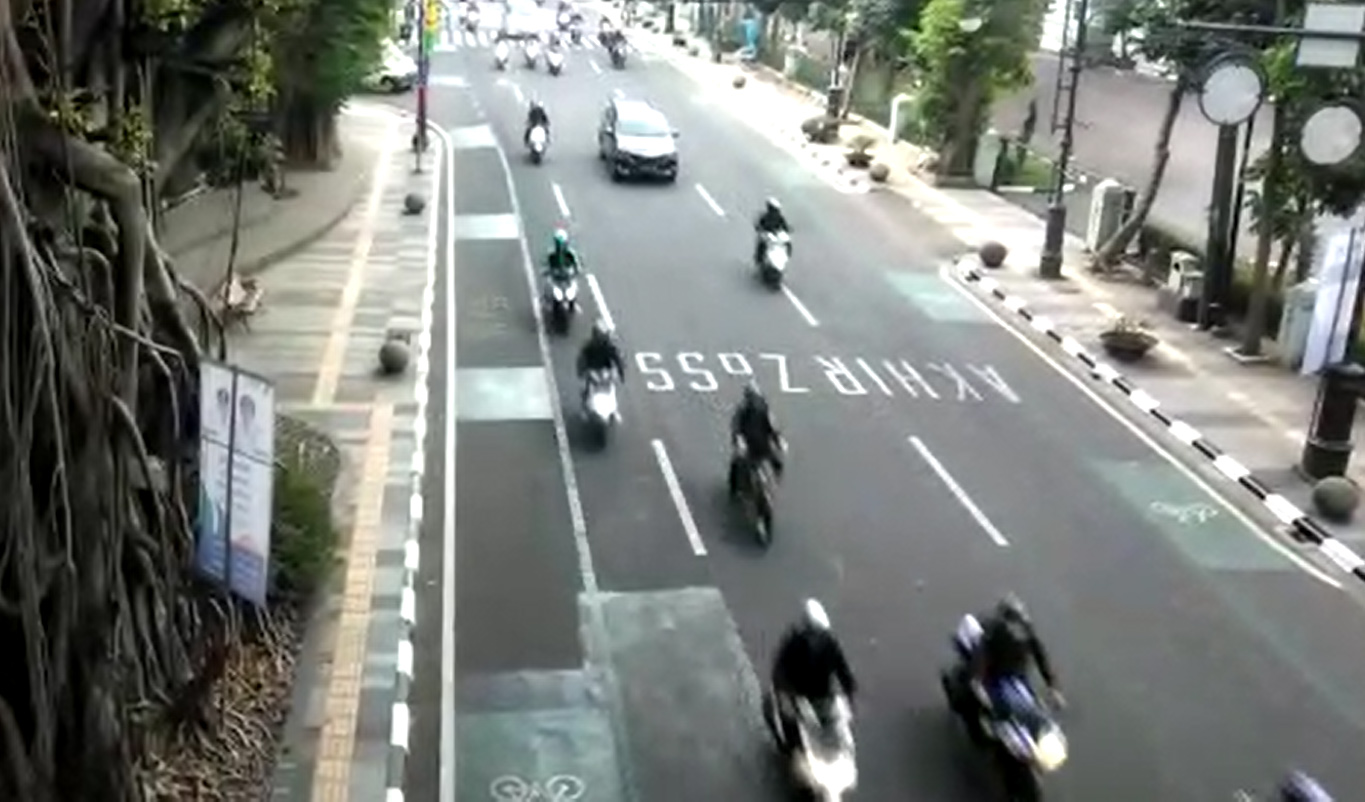mobil: (582, 87, 698, 200)
motor: (935, 585, 1083, 802), (754, 585, 889, 802), (705, 372, 815, 563), (558, 306, 646, 463), (737, 187, 809, 301), (529, 219, 594, 340), (517, 90, 558, 173)
